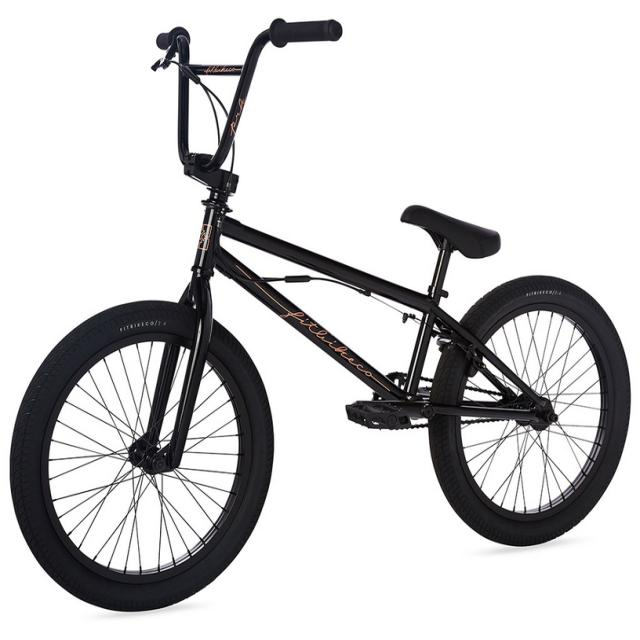bmx-bike: (8, 15, 633, 618)
